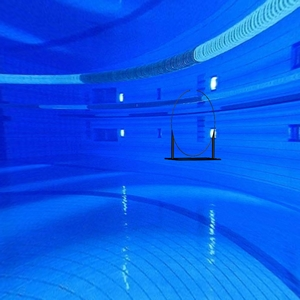circle: (164, 90, 223, 164)
